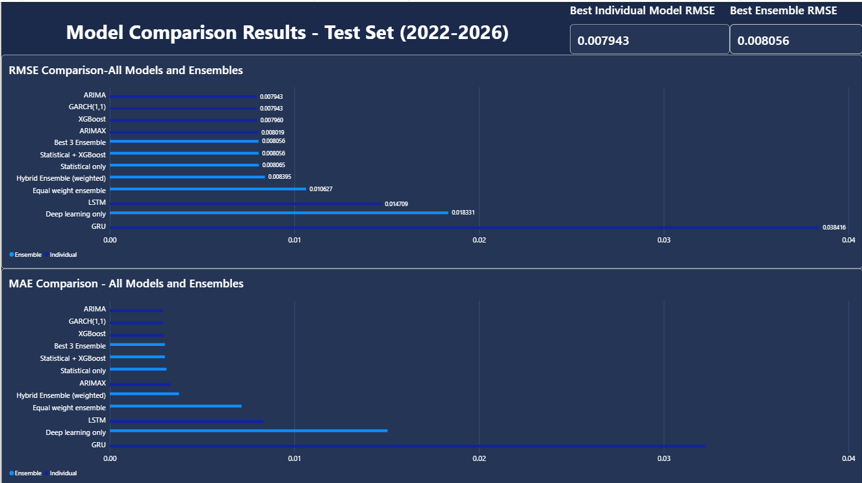

Layout of this report page (visuals, bound fields, positions):
{"tool":"powerbi","page":{"name":"Model Comparison","canvas":[1920,1080],"ordinal":3},"visuals":[{"type":"textbox","box":[9,36.2,1257.7,79.6],"z":0},{"type":"cardVisual","title":"Best Individual Model RMSE","fields":{"Data":["Min(04_model_results.RMSE)"]},"box":[1266.8,0,356,116],"z":1},{"type":"cardVisual","title":"Best Ensemble RMSE","fields":{"Data":["Min(04_model_results.RMSE)"]},"box":[1623.3,0,296,116],"z":2},{"type":"clusteredBarChart","title":"RMSE Comparison-All Models and Ensembles","fields":{"Category":["04_model_results.Model"],"Series":["04_model_results.Type"],"Y":["Min(04_model_results.RMSE)"]},"box":[0,116.9,1919.6,476.1],"z":3},{"type":"clusteredBarChart","title":"MAE Comparison - All Models and Ensembles","fields":{"Category":["04_model_results.Model"],"Series":["04_model_results.Type"],"Y":["Min(04_model_results.MAE)"]},"box":[0,593,1919.6,486.9],"z":4}]}

Visuals, with their boxes in screenshot pixels (x1, y1, x2, y2), scaled from the page's 1920x1080 canvas onto the 862x483 screenshot:
textbox: l=4, t=16, r=569, b=52
"Best Individual Model RMSE" cardVisual: l=569, t=0, r=729, b=52
"Best Ensemble RMSE" cardVisual: l=729, t=0, r=861, b=52
"RMSE Comparison-All Models and Ensembles" clusteredBarChart: l=0, t=52, r=861, b=265
"MAE Comparison - All Models and Ensembles" clusteredBarChart: l=0, t=265, r=861, b=482
